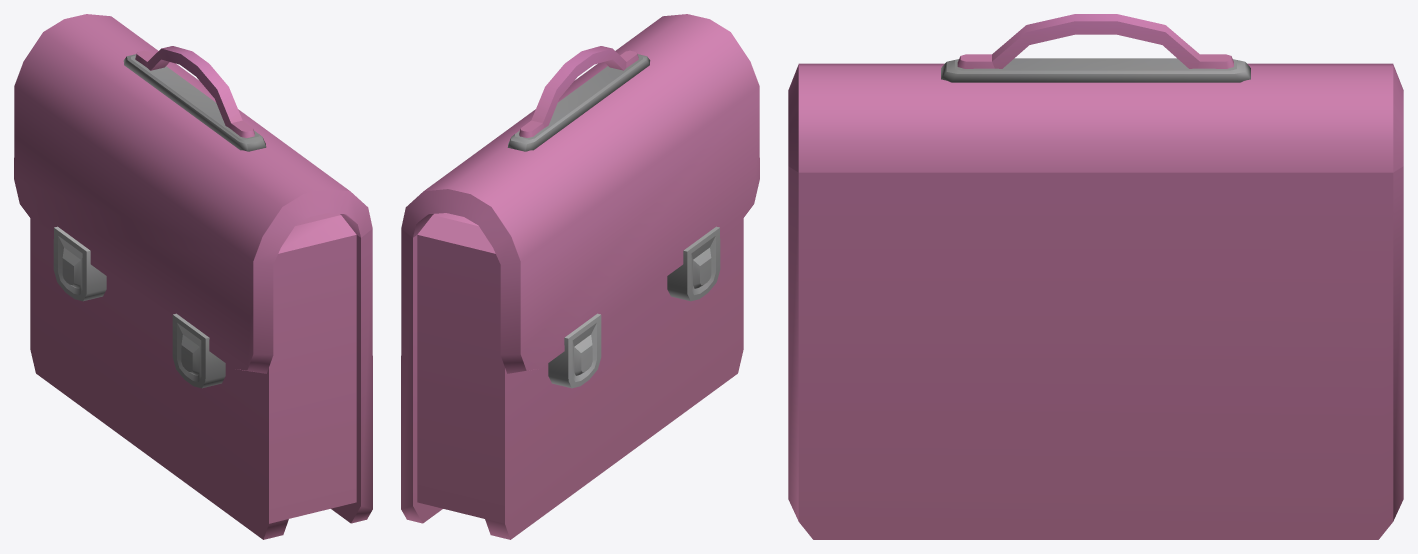
Rendered from Suitcase_1_1_C.glb.
3 renders of one model, left to right at view 1: azimuth 30°, elevation 25°; view 2: azimuth 150°, elevation 25°; view 3: azimuth 270°, elevation 25°, orthographic. The views are drawn at different scales.
Visible parts, largest first — view 1: Suitcase_1_1_C; view 2: Suitcase_1_1_C; view 3: Suitcase_1_1_C.
Part boxes in pixels (x1,y1,x2,y2): Suitcase_1_1_C: [14, 14, 372, 539]; Suitcase_1_1_C: [401, 14, 759, 539]; Suitcase_1_1_C: [788, 14, 1403, 539].
Size of the model in its own units: 0.1604 by 0.4779 by 0.5473.
Materials: 2 (2 with a texture image).
